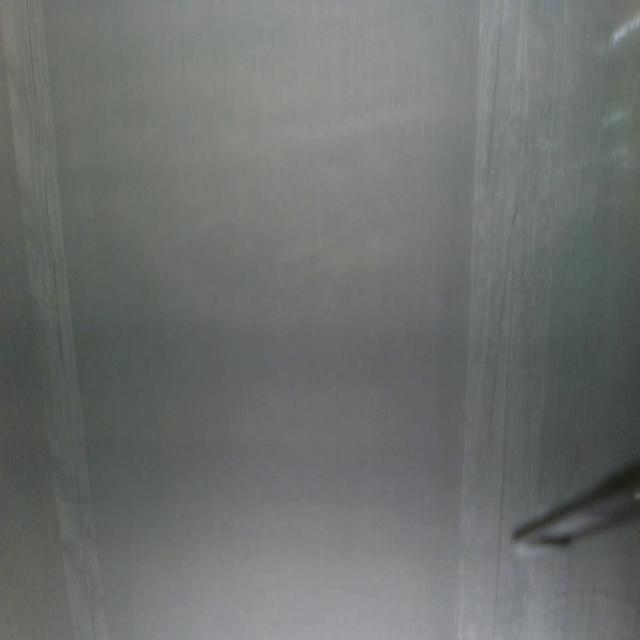crease: (0, 1, 108, 640), (464, 0, 566, 513), (456, 556, 570, 640)
